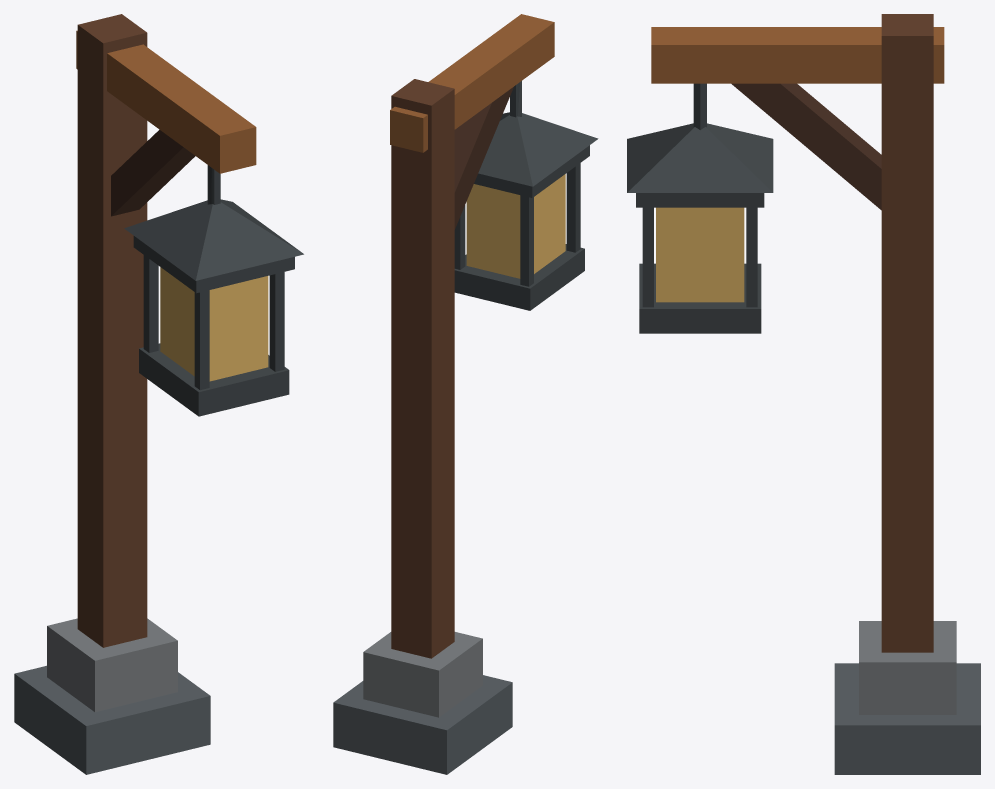
Rendered from 21_lantern_post.fbx.
3 views of the same model, side by side, from view 1: azimuth 30°, elevation 25°; view 2: azimuth 150°, elevation 25°; view 3: azimuth 270°, elevation 25° (orthographic). The views are drawn at different scales.
Parts seen in each view (by area): view 1: 21_lantern_post; view 2: 21_lantern_post; view 3: 21_lantern_post.
Boxes of the visible parts, bbox=[...] form: 21_lantern_post: bbox=[14, 14, 303, 774]; 21_lantern_post: bbox=[333, 14, 598, 774]; 21_lantern_post: bbox=[627, 14, 980, 774].
Bounding box in the file's own units: 0.48 × 2.6 × 1.16.
Materials: 1 (1 with a texture image).
